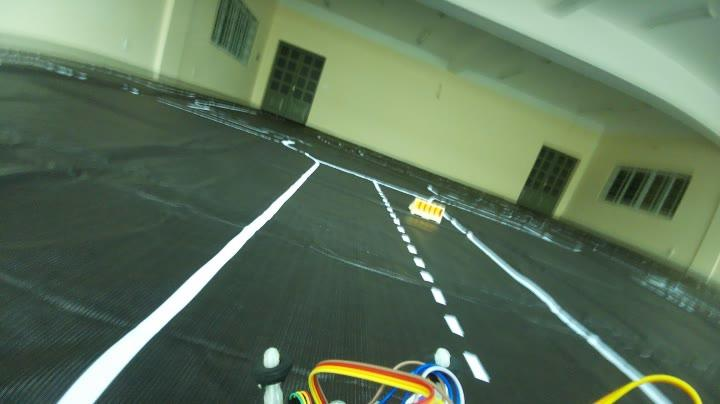roadblock: (406, 190, 456, 234)
